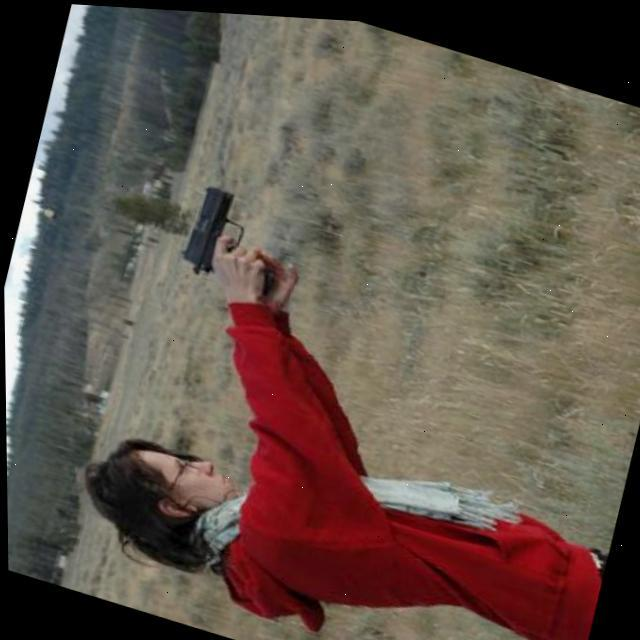gun: (172, 178, 288, 294)
